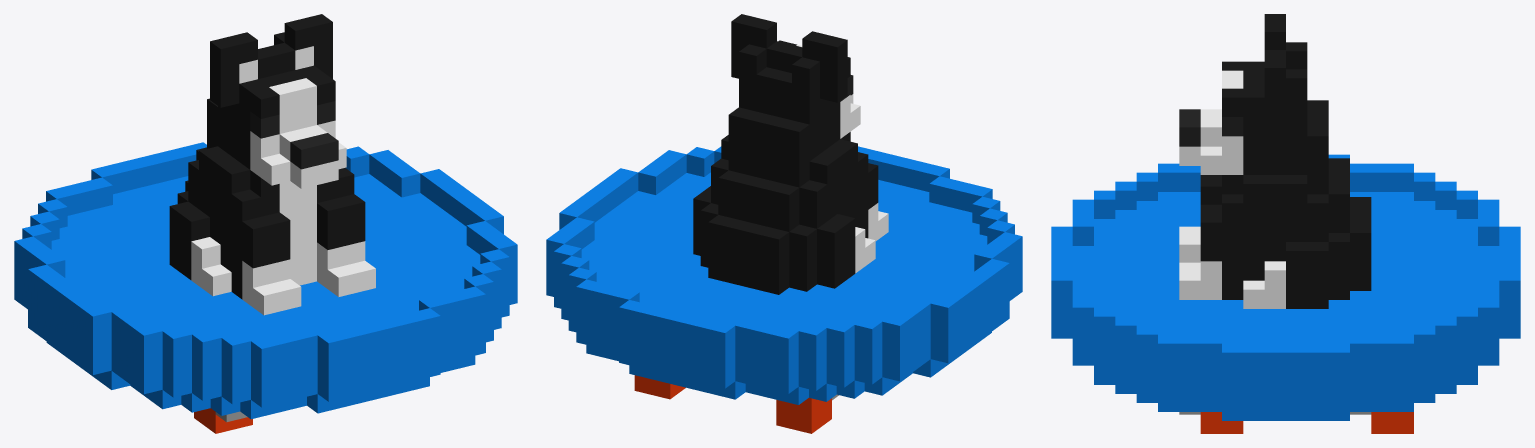
The model's file is Shiva_Dog_2.obj.
The picture shows the model from 3 angles, left to right: view 1: azimuth 30°, elevation 25°; view 2: azimuth 150°, elevation 25°; view 3: azimuth 270°, elevation 25°; orthographic projection. The views are drawn at different scales.
Size of the model in its own units: 2.2 by 1.8 by 2.2.
1 material, 1 textured.
